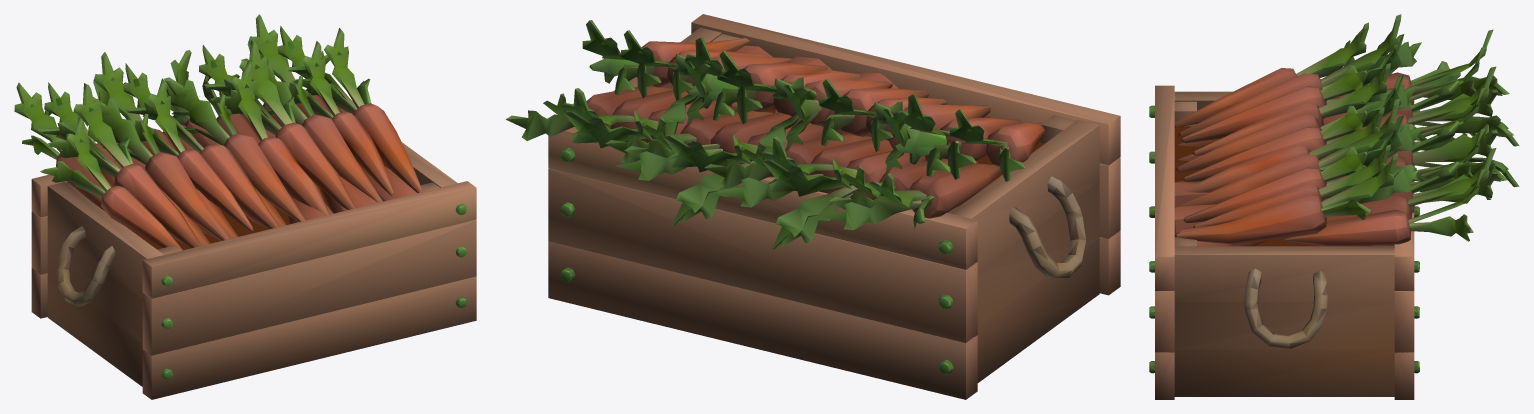
The model's file is prop_crate_carrots.glb.
The picture shows the model from 3 angles, left to right: view 1: azimuth 30°, elevation 25°; view 2: azimuth 150°, elevation 25°; view 3: azimuth 270°, elevation 25°; orthographic projection. The views are drawn at different scales.
Visible parts, largest first — view 1: refined; view 2: refined; view 3: refined.
Boxes of the visible parts, left/top/right/bottom form: refined: left=14, top=14, right=476, bottom=399; refined: left=506, top=14, right=1120, bottom=399; refined: left=1149, top=14, right=1519, bottom=399.
Bounding box in the file's own units: 0.7138 × 0.4113 × 0.567.
